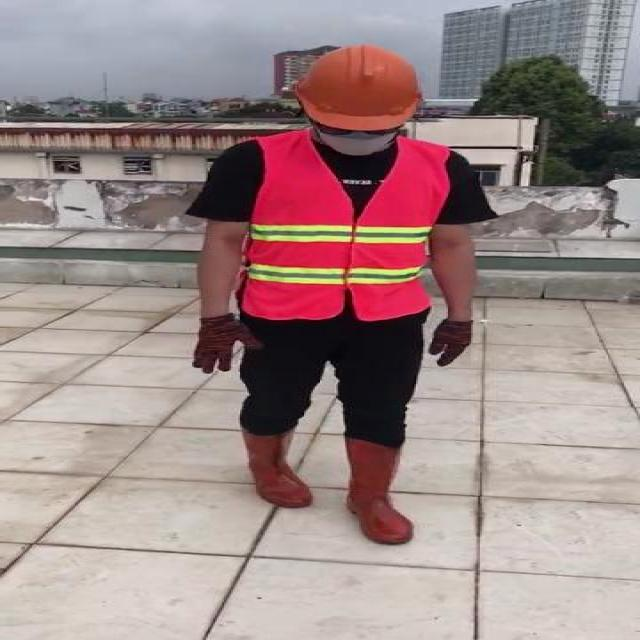boots: (346, 440, 419, 546), (240, 428, 315, 510)
face_mask: (310, 118, 406, 155)
hand_glove: (194, 315, 263, 375), (428, 318, 476, 368)
head_helmet: (292, 44, 426, 130)
person: (183, 45, 494, 550)
vest: (240, 136, 452, 319)
